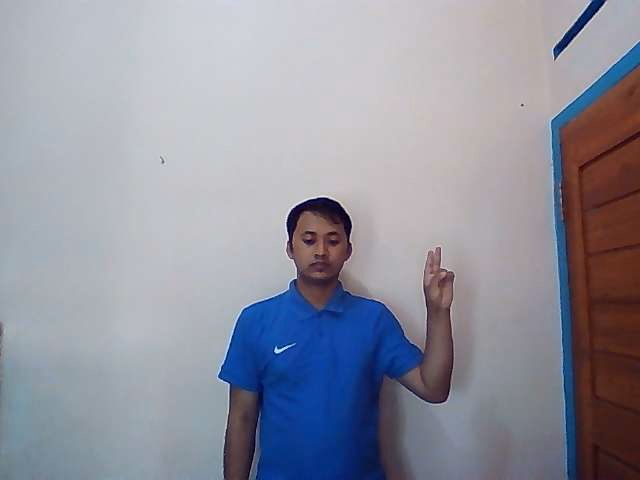U: (422, 246, 454, 310)
